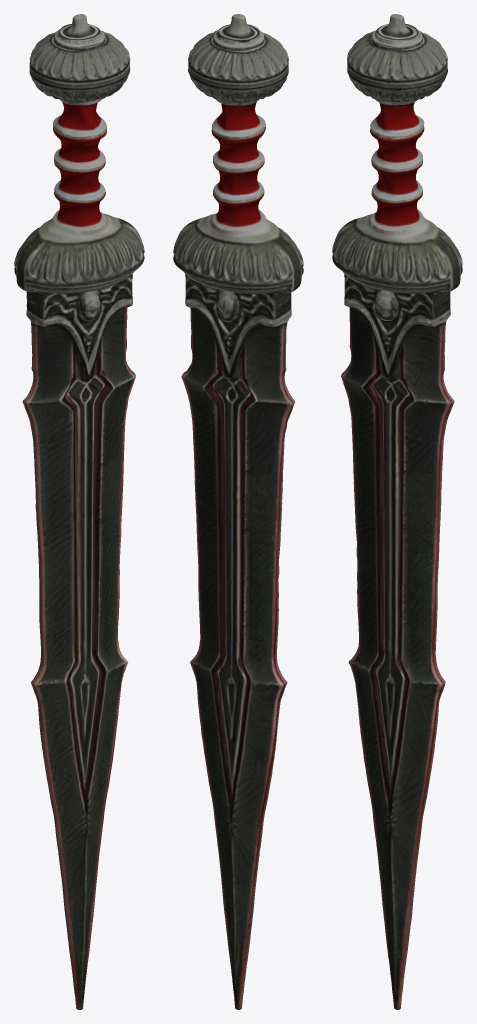
The model's file is pala.glb.
The picture shows the model from 3 angles, left to right: view 1: azimuth 30°, elevation 25°; view 2: azimuth 150°, elevation 25°; view 3: azimuth 330°, elevation 25°; orthographic projection.
Parts seen in each view (by area): view 1: tripo_node_d2adabd3-db36-4d8c-ac24-172db1782b8c; view 2: tripo_node_d2adabd3-db36-4d8c-ac24-172db1782b8c; view 3: tripo_node_d2adabd3-db36-4d8c-ac24-172db1782b8c.
Part boxes in pixels (x1,y1,x2,y2): tripo_node_d2adabd3-db36-4d8c-ac24-172db1782b8c: [14, 14, 144, 1009]; tripo_node_d2adabd3-db36-4d8c-ac24-172db1782b8c: [173, 14, 303, 1009]; tripo_node_d2adabd3-db36-4d8c-ac24-172db1782b8c: [332, 14, 462, 1009].
Size of the model in its own units: 0.1257 by 1 by 0.093.
1 material, 1 textured.
